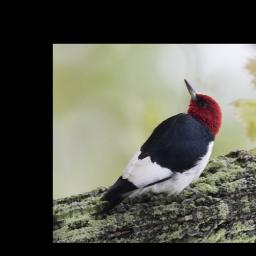Woodpecker: (71, 65, 239, 227)
